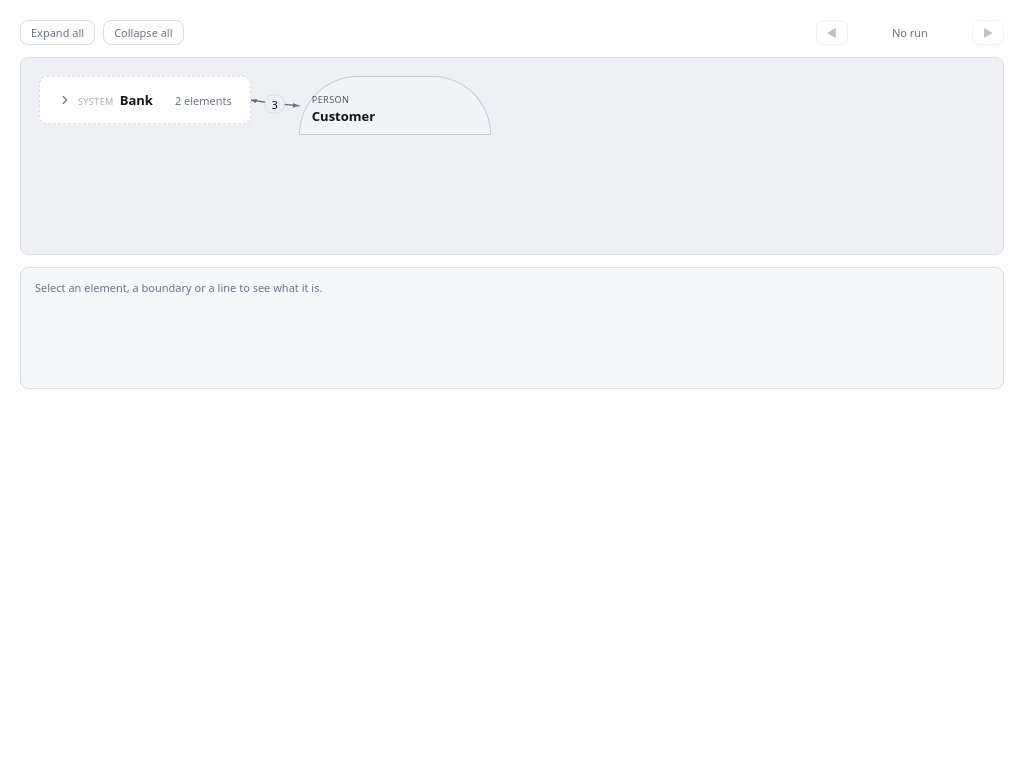
Test: C4Chart — the link modal › closes, opens both ends and lights the one relation when it is picked
Click the button named "3 relations": (275, 104) left=265, top=94, right=285, bottom=113
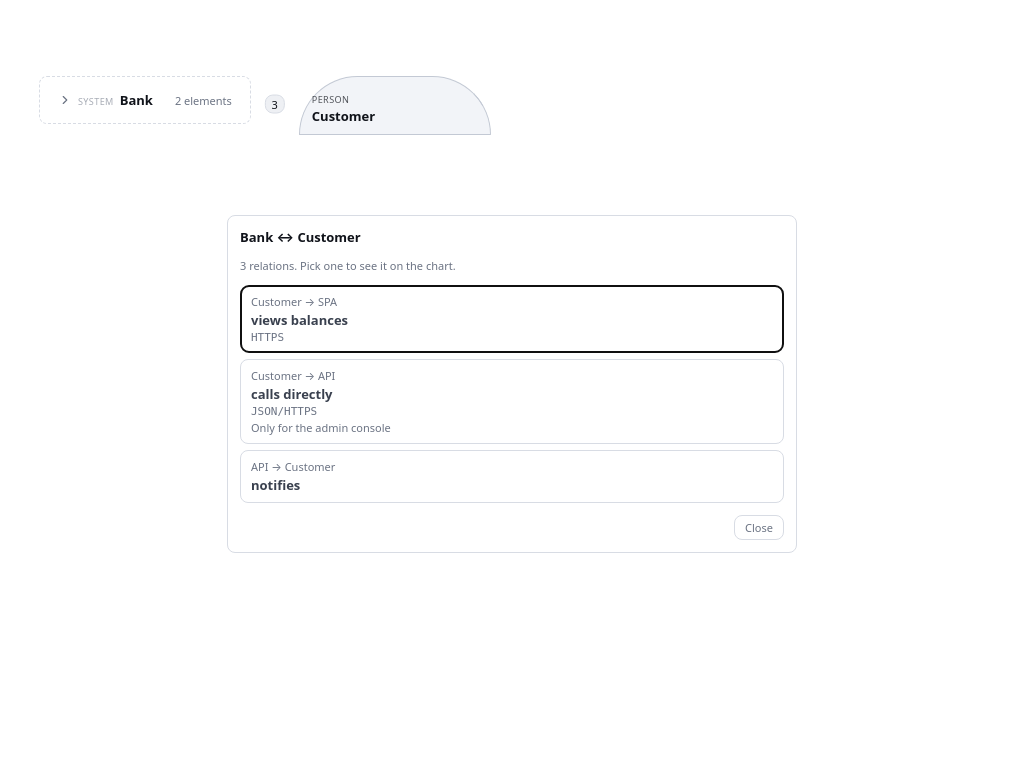
Click the button "calls directly": (276, 376) left=240, top=359, right=784, bottom=444
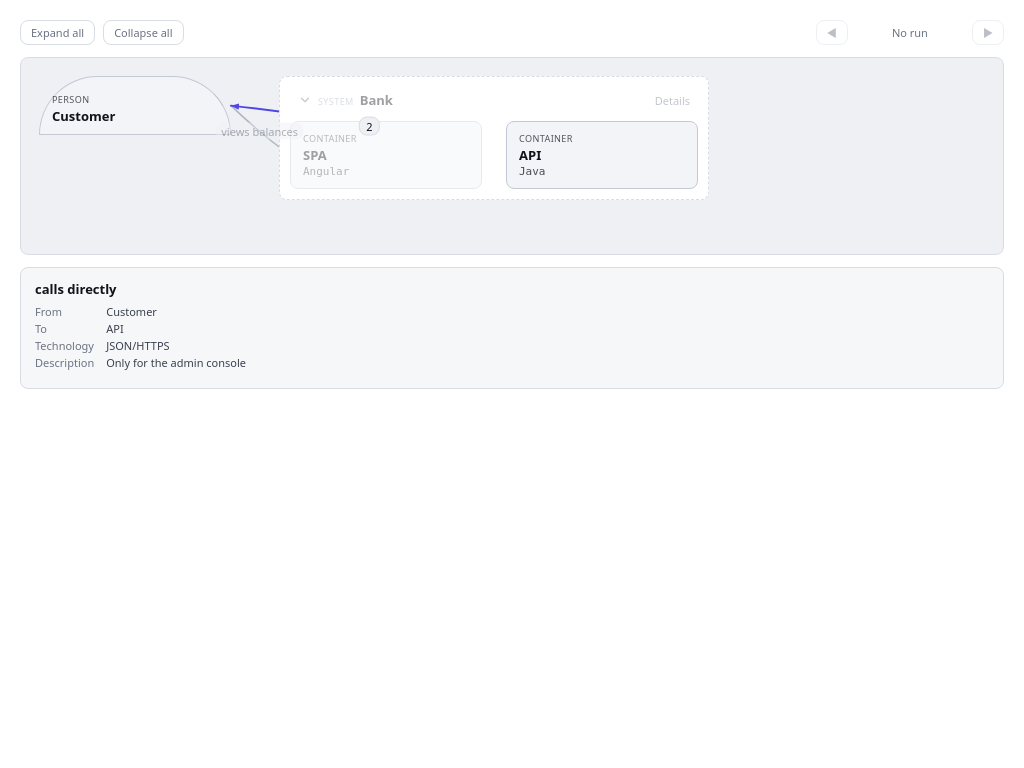
Result: the 1st text "API" is shown at left=519, top=147, right=541, bottom=163
Result: the dialog is gone
